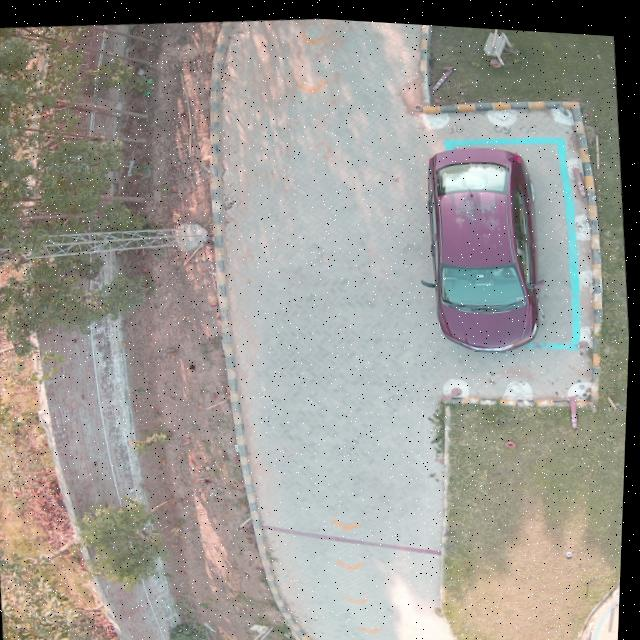car: (429, 140, 543, 345)
